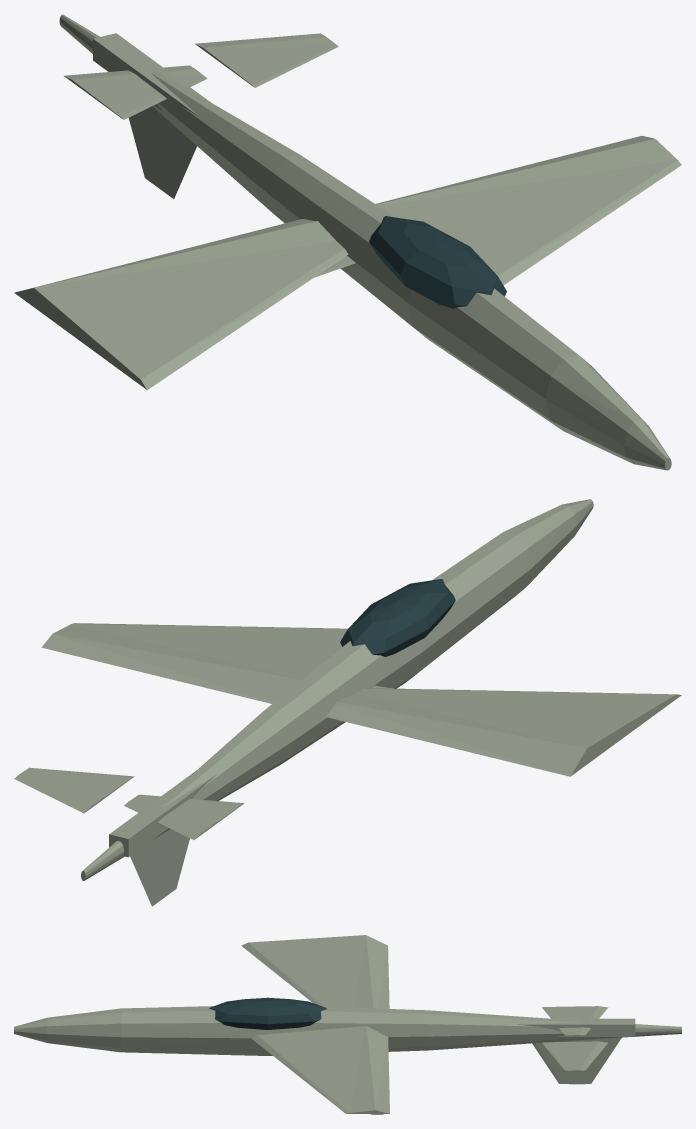
3 views of the same model, one above another, from view 1: azimuth 30°, elevation 25°; view 2: azimuth 150°, elevation 25°; view 3: azimuth 270°, elevation 25° (orthographic). The views are drawn at different scales.
Parts seen in each view (by area): view 1: Fuselage, Wing_L, Wing_R, Cockpit, Elevator_R, Rudder, Elevator_L, TailBoom; view 2: Fuselage, Wing_L, Wing_R, Cockpit, Elevator_R, Rudder, Elevator_L, TailBoom; view 3: Fuselage, Wing_R, Wing_L, Cockpit, Rudder, TailBoom, Elevator_R, Elevator_L.
Boxes of the visible parts, bbox=[...] form: Fuselage: bbox=[59, 14, 671, 470]; Wing_L: bbox=[14, 219, 348, 390]; Wing_R: bbox=[375, 136, 681, 285]; Cockpit: bbox=[369, 216, 506, 308]; Elevator_R: bbox=[195, 33, 338, 87]; Rudder: bbox=[129, 106, 196, 198]; Elevator_L: bbox=[63, 65, 207, 119]; TailBoom: bbox=[93, 33, 209, 116]; Fuselage: bbox=[81, 499, 593, 880]; Wing_L: bbox=[326, 688, 681, 776]; Wing_R: bbox=[41, 623, 347, 703]; Cockpit: bbox=[340, 579, 455, 656]; Elevator_R: bbox=[14, 767, 134, 813]; Rudder: bbox=[130, 829, 189, 906]; Elevator_L: bbox=[124, 794, 243, 839]; TailBoom: bbox=[109, 769, 216, 857]; Fuselage: bbox=[14, 1006, 681, 1055]; Wing_R: bbox=[251, 1026, 389, 1113]; Wing_L: bbox=[241, 935, 389, 1008]; Cockpit: bbox=[209, 997, 326, 1029]; Rudder: bbox=[532, 1037, 621, 1084]; TailBoom: bbox=[517, 1018, 635, 1036]; Elevator_R: bbox=[542, 1041, 607, 1070]; Elevator_L: bbox=[542, 1006, 608, 1035].
Size of the model in its own units: 12.48 by 2.85 by 20.8.
